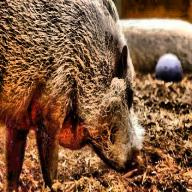boar: (2, 0, 150, 187)
